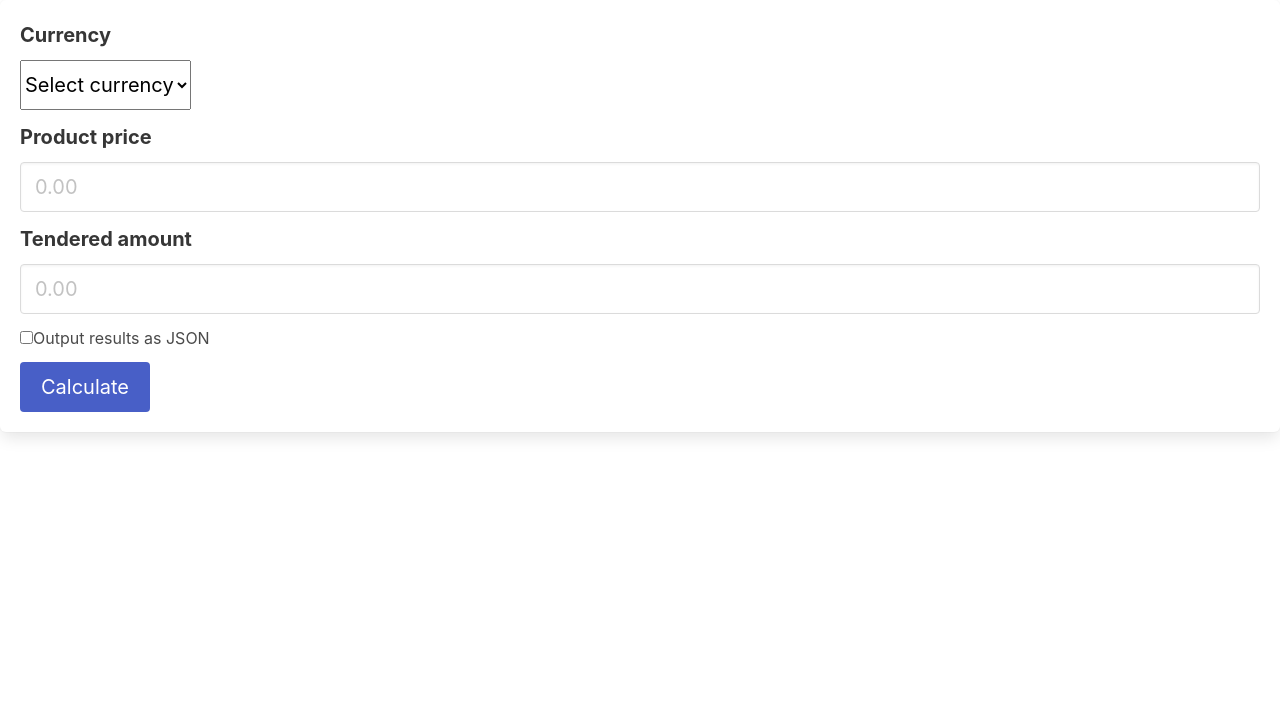
Scenario: Calculator › Validation › shows errors if tendered amount is less than price
Step 1. Type "10.00" into the field with test id "price-input" → (640, 187), box [20,162,1260,212]
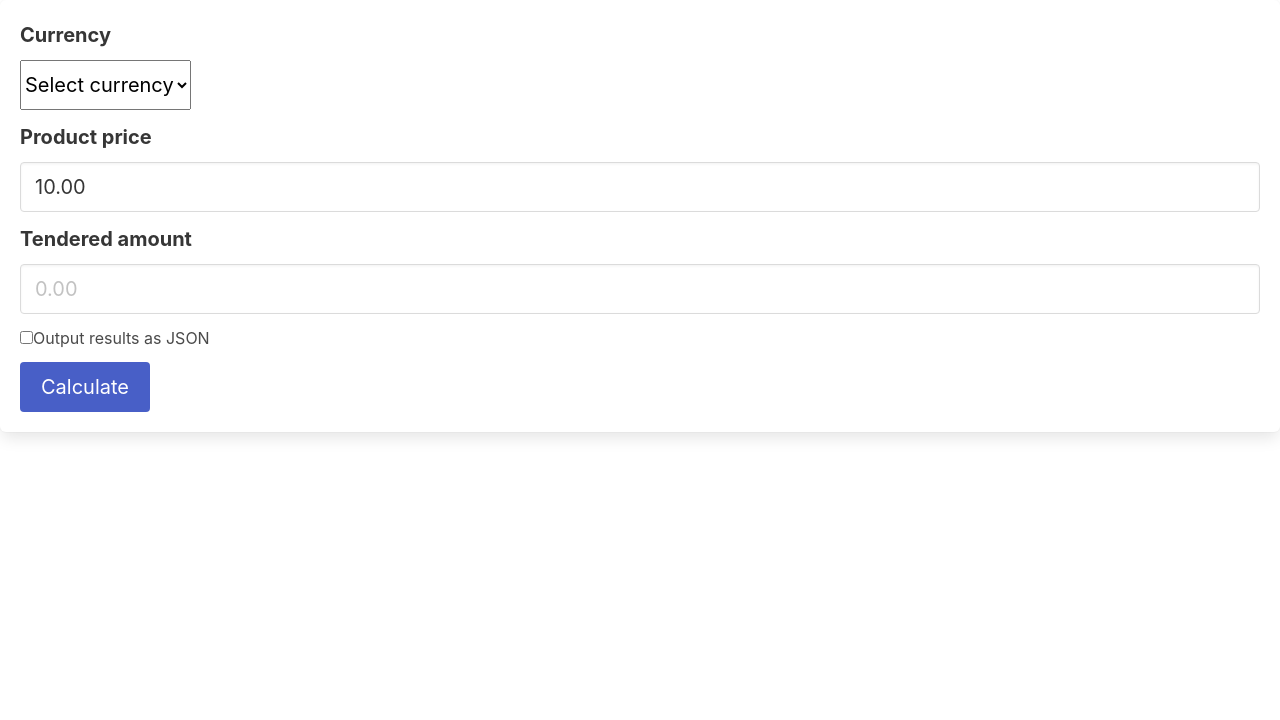
Step 2. Type "5.00" into the field with test id "tendered-input" → (640, 289), box [20,264,1260,314]
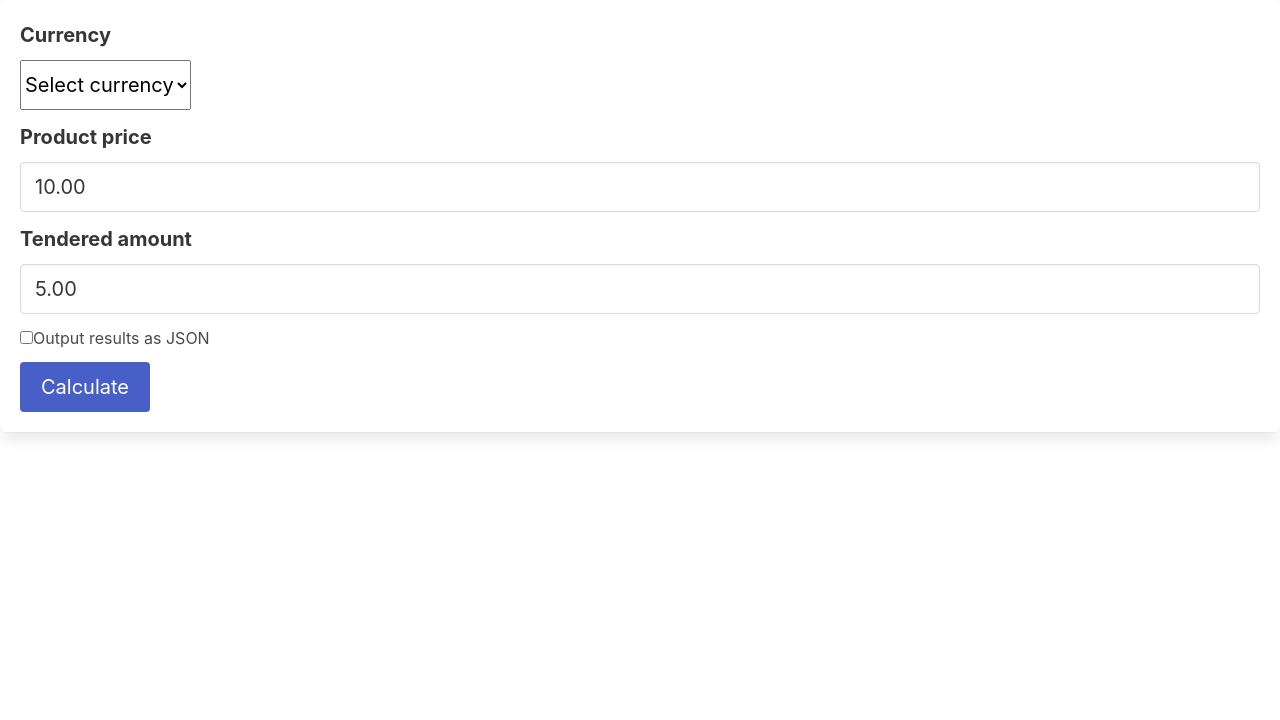
Step 3. Click the button with test id "submit-button" → (85, 387), box [20,362,150,412]
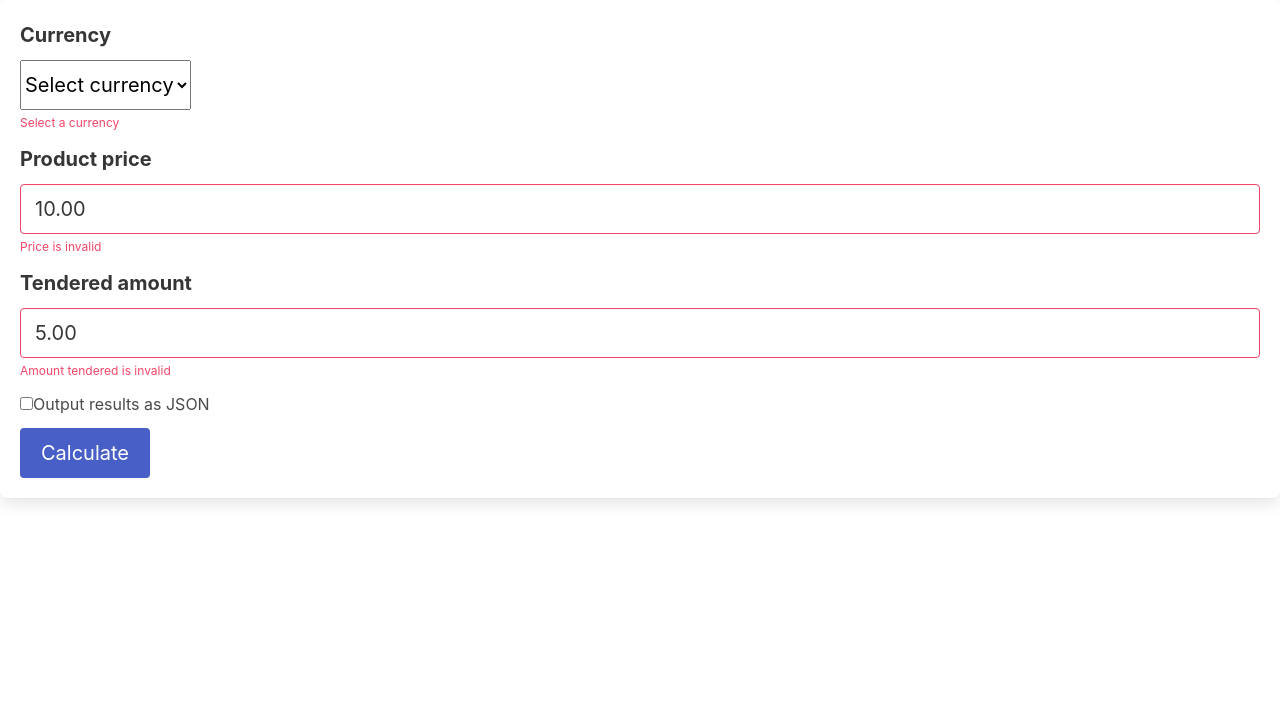
expect the text "Price is invalid" is shown: met, box [20,239,102,254]
expect the text "Amount tendered is invalid" is shown: met, box [20,363,171,378]
